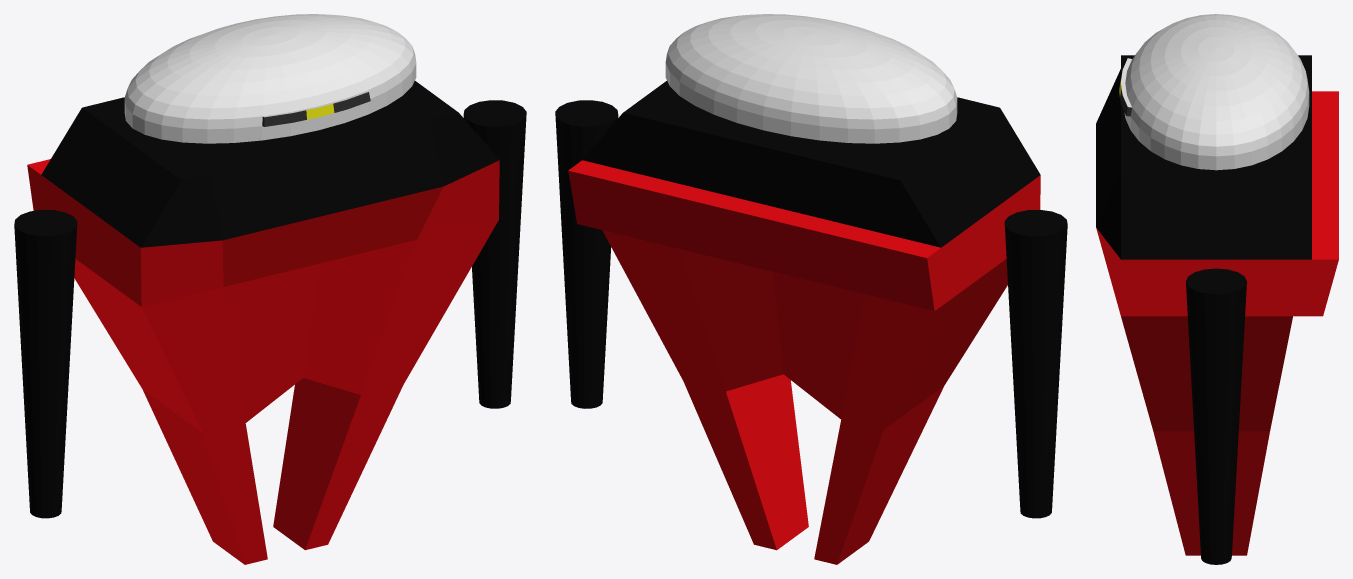
File: robot.fbx
3 views of the same model, side by side, from view 1: azimuth 30°, elevation 25°; view 2: azimuth 150°, elevation 25°; view 3: azimuth 270°, elevation 25° (orthographic). The views are drawn at different scales.
Visible parts, largest first — view 1: Robot; view 2: Robot; view 3: Robot.
Part boxes in pixels (left/top/right/bottom): Robot: left=14, top=14, right=526, bottom=564; Robot: left=555, top=14, right=1067, bottom=564; Robot: left=1096, top=14, right=1338, bottom=564.
Size of the model in its own units: 366 by 352 by 159.
